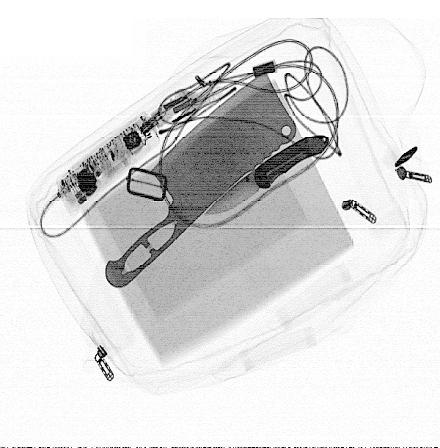Knife: (105, 70, 297, 288), (203, 135, 330, 216)
